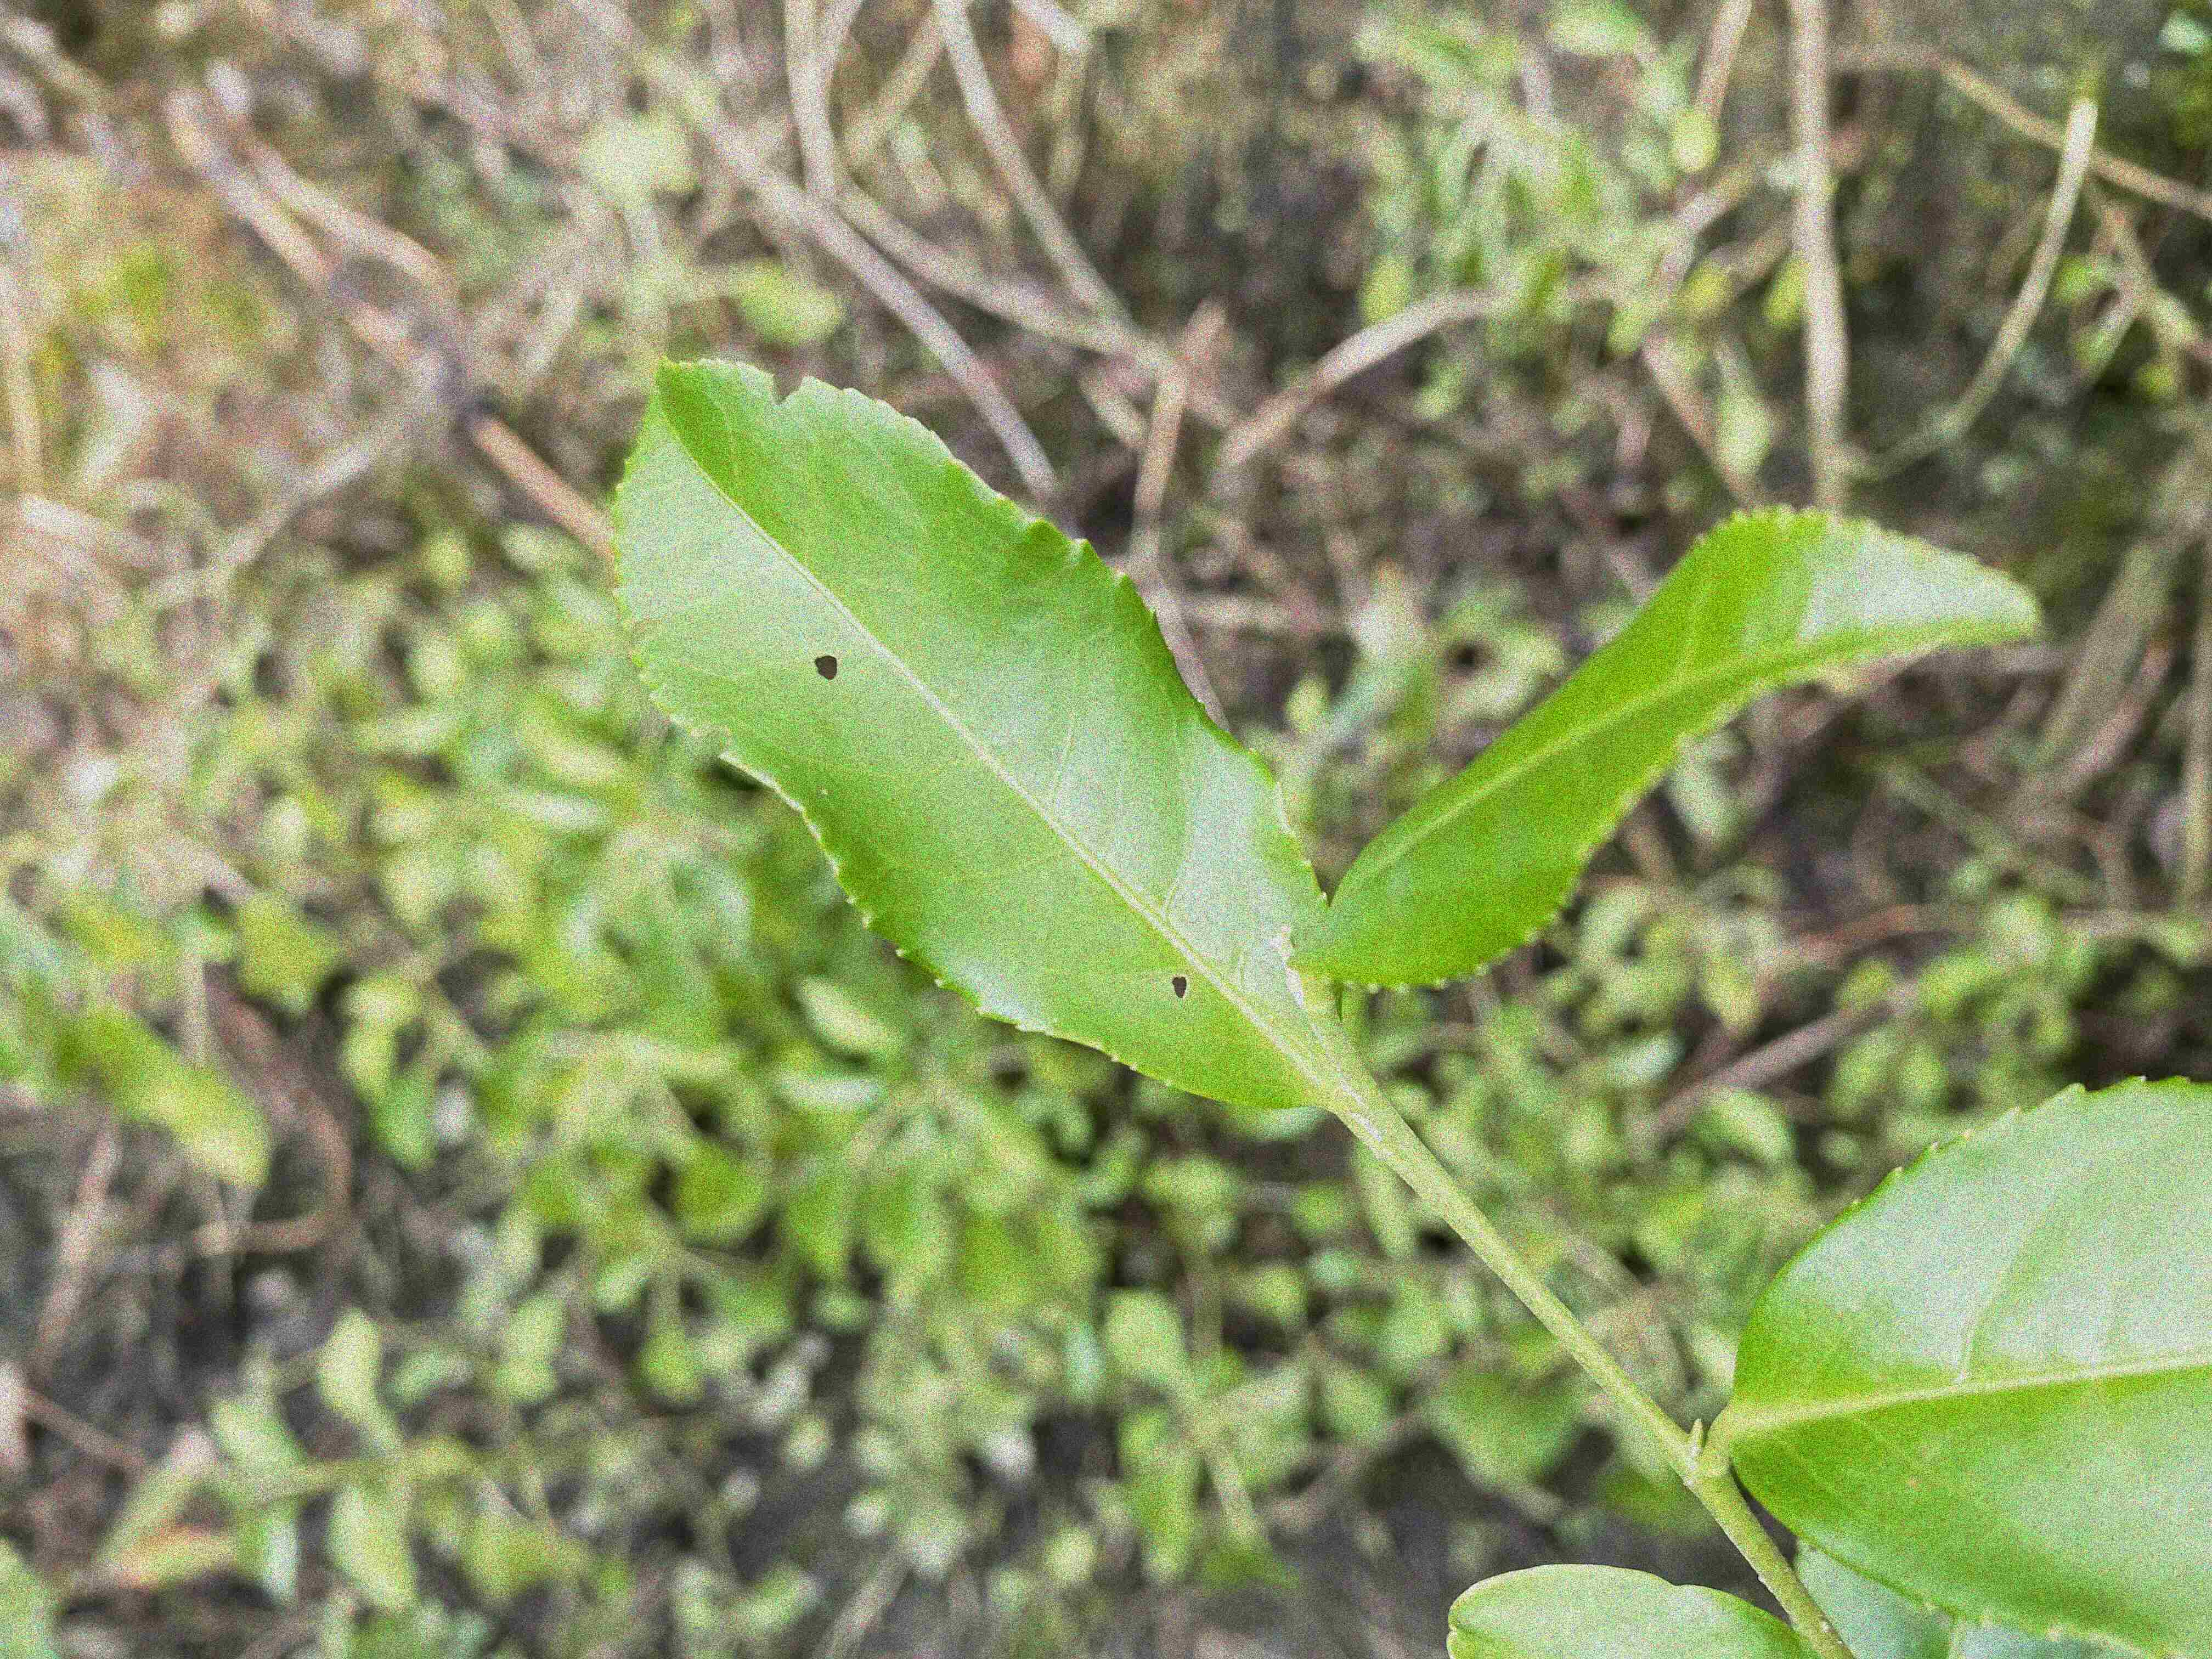chihuo_high: (604, 350, 1336, 1105)
healthy: (1287, 495, 2045, 995), (1731, 1072, 2210, 1657)
